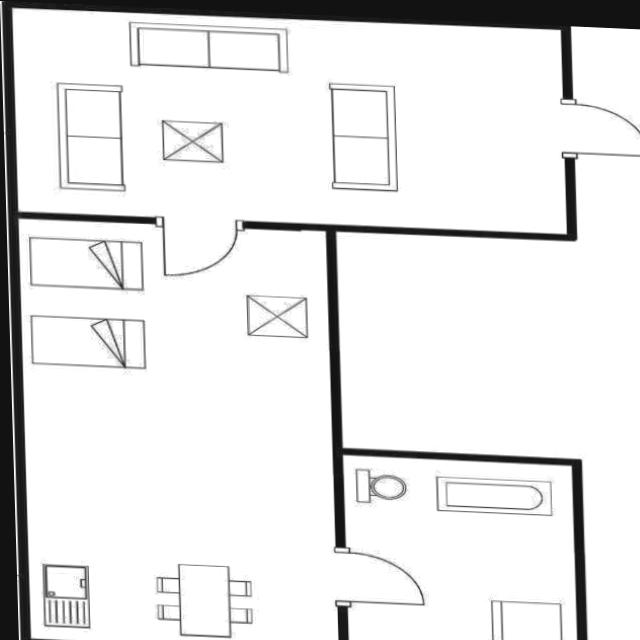room: (17, 208, 339, 640), (4, 7, 575, 233), (343, 454, 577, 640)
